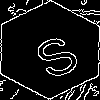S: (25, 25, 84, 82)
